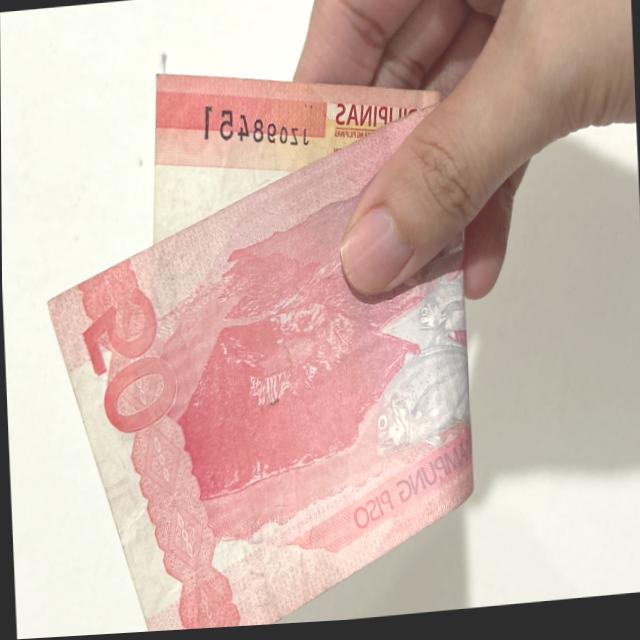serial_number: (197, 101, 317, 172)
value: (69, 280, 186, 455)
